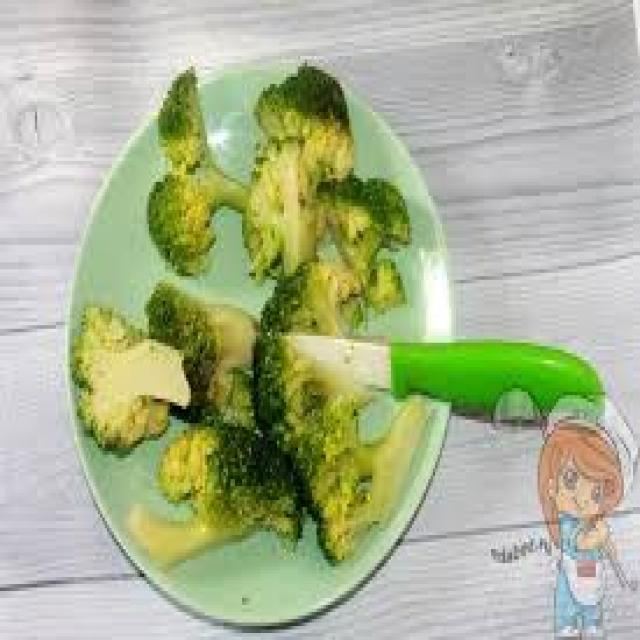broccoli: (68, 274, 265, 454), (148, 417, 350, 586), (133, 83, 275, 298), (311, 382, 435, 570), (312, 160, 422, 328), (265, 48, 339, 281)
